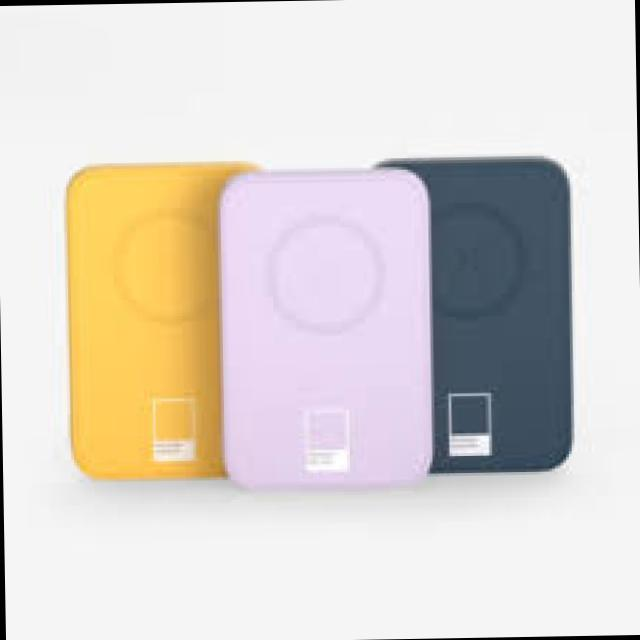power_bank: (214, 167, 436, 495), (373, 153, 578, 481), (62, 156, 266, 478)
